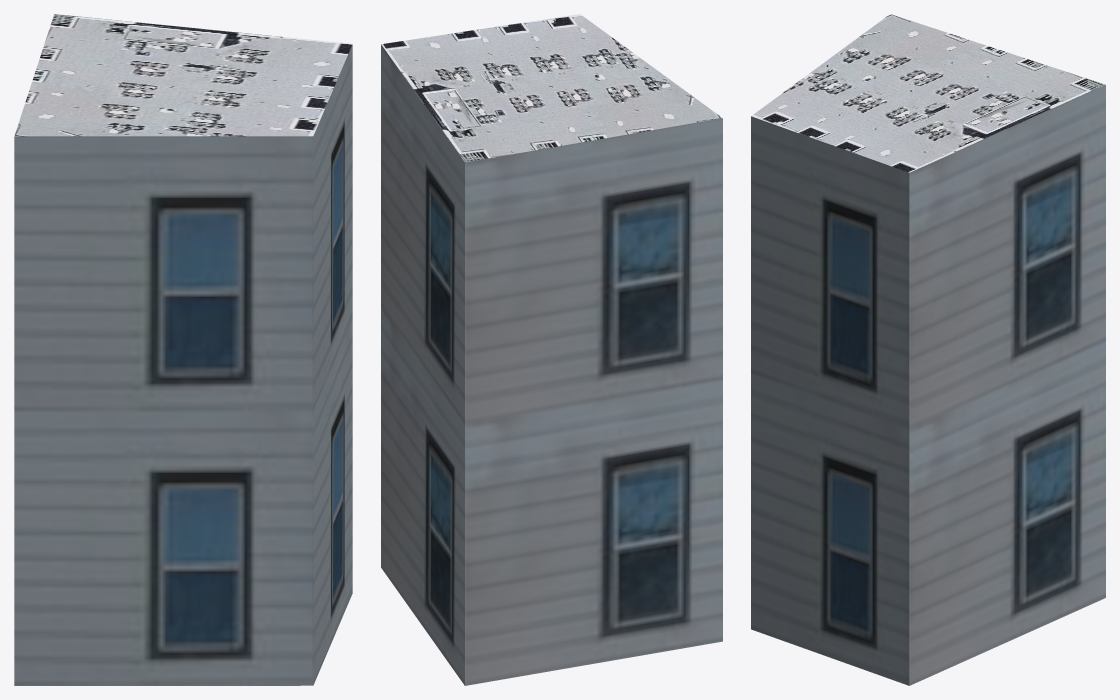
File: ResTex__1226.fbx
3 renders of one model, left to right at view 1: azimuth 30°, elevation 25°; view 2: azimuth 150°, elevation 25°; view 3: azimuth 270°, elevation 25°, orthographic. The views are drawn at different scales.
Parts seen in each view (by area): view 1: CityEngineMaterial_18_m, CityEngineMaterial_m; view 2: CityEngineMaterial_18_m, CityEngineMaterial_m; view 3: CityEngineMaterial_18_m, CityEngineMaterial_m.
Part boxes in pixels (x1=…): CityEngineMaterial_18_m: x1=14, y1=44, x2=352, y2=685; CityEngineMaterial_m: x1=14, y1=14, x2=352, y2=136; CityEngineMaterial_18_m: x1=381, y1=44, x2=722, y2=685; CityEngineMaterial_m: x1=381, y1=14, x2=722, y2=162; CityEngineMaterial_18_m: x1=751, y1=85, x2=1105, y2=685; CityEngineMaterial_m: x1=751, y1=14, x2=1105, y2=172.
Bounding box in the file's own units: 3.98 × 6 × 3.76.
Materials: 2 (2 with a texture image).
